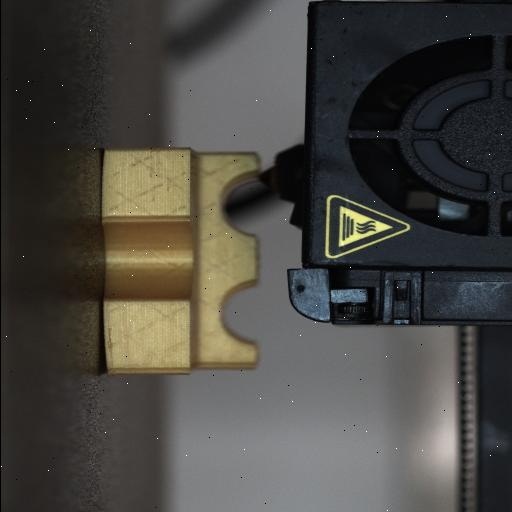warp: (97, 328, 125, 382)
